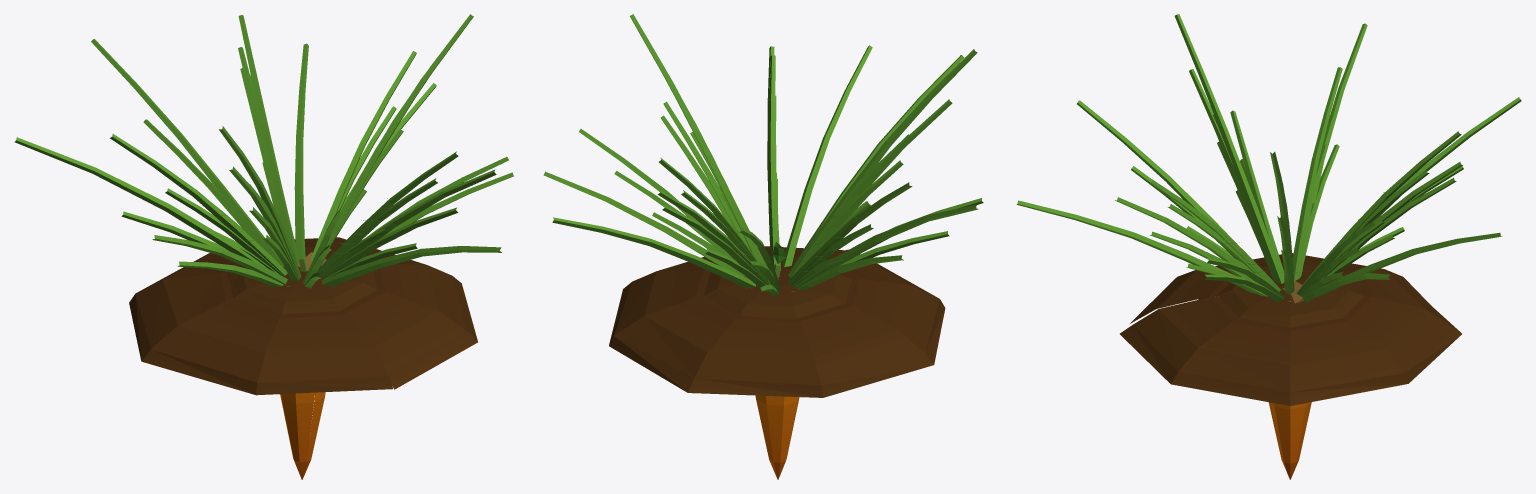
Rendered from carrot.glb.
3 renders of one model, left to right at view 1: azimuth 30°, elevation 25°; view 2: azimuth 150°, elevation 25°; view 3: azimuth 270°, elevation 25°, orthographic. The views are drawn at different scales.
Parts seen in each view (by area): view 1: stage2_soil, stage4_stem, stage4_l1_stem, stage3_stem, stage0_soil, stage3_l1_stem, fruit_fruit, stage2_l1_stem, stage2_stem; view 2: stage2_soil, stage4_stem, stage4_l1_stem, stage0_soil, stage3_stem, stage3_l1_stem, fruit_fruit, stage2_stem, stage2_l1_stem; view 3: stage2_soil, stage4_stem, stage4_l1_stem, stage0_soil, stage3_stem, stage3_l1_stem, fruit_fruit, stage2_stem, stage2_l1_stem.
Part boxes in pixels (x1,y1,x2,y2): stage2_soil: (129,237,477,395); stage4_stem: (91,14,508,286); stage4_l1_stem: (14,17,496,279); stage3_stem: (143,74,513,287); stage0_soil: (226,249,377,313); stage3_l1_stem: (121,68,457,280); fruit_fruit: (280,392,325,479); stage2_l1_stem: (262,162,417,280); stage2_stem: (214,185,386,288); stage2_soil: (609,246,945,397); stage4_stem: (552,14,983,289); stage4_l1_stem: (543,15,978,288); stage0_soil: (704,256,852,318); stage3_stem: (614,95,949,291); stage3_l1_stem: (662,132,903,289); fruit_fruit: (755,395,799,479); stage2_stem: (652,179,873,296); stage2_l1_stem: (705,172,870,287); stage2_soil: (1120,253,1461,405); stage4_stem: (1016,14,1521,298); stage4_l1_stem: (1115,23,1462,302); stage0_soil: (1198,266,1364,327); stage3_stem: (1131,114,1463,302); stage3_l1_stem: (1149,141,1456,281); fruit_fruit: (1268,402,1311,479); stage2_stem: (1186,203,1404,296); stage2_l1_stem: (1186,190,1394,296).
Size of the model in its own units: 0.6365 by 0.6065 by 0.6908.
